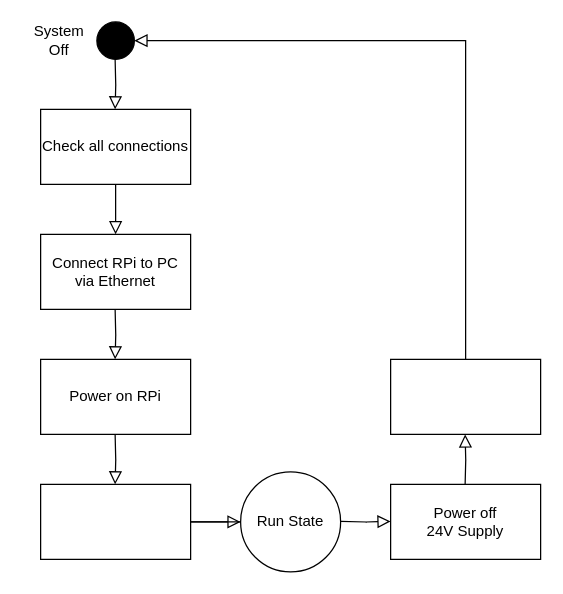
Some shapes in this 563 by 594 pixel diagram are drawn without their labels. The shapes that lost their labels are listed below. From the top down, each one's box as (x1, y1, x2, y2) in pixels, then its label:
(389, 358, 541, 434): Power off RPi
(39, 483, 191, 559): Power on 24V Supply
